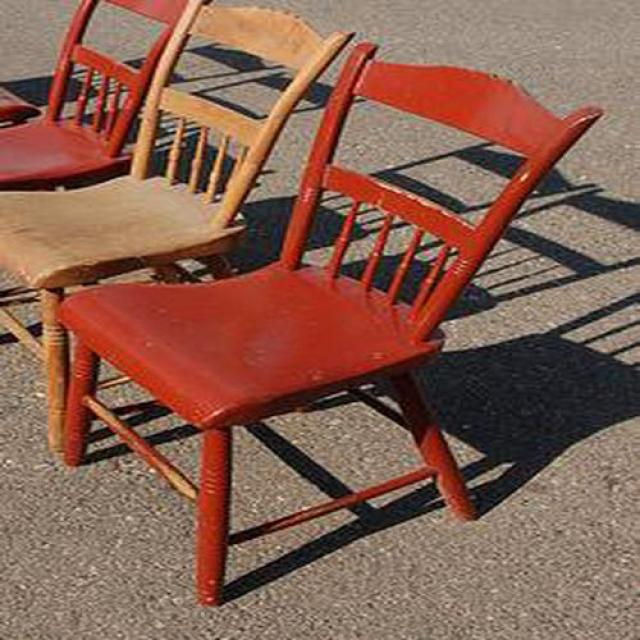chair: (55, 42, 605, 609), (0, 0, 353, 458)
